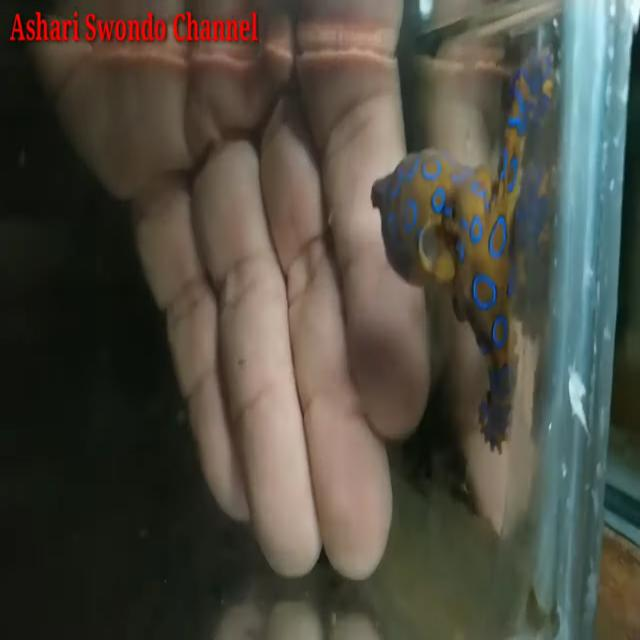blue_ringed_octopus: (368, 47, 557, 456)
